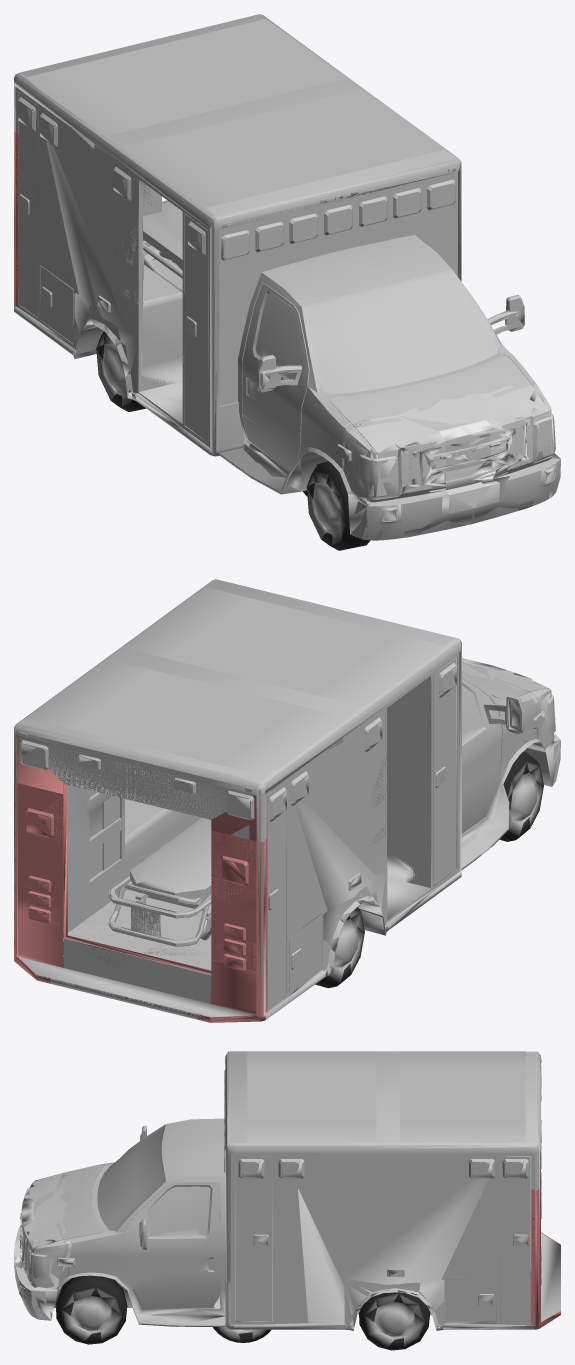
Rendered from van4.glb.
3 renders of one model, top to bottom at view 1: azimuth 30°, elevation 25°; view 2: azimuth 150°, elevation 25°; view 3: azimuth 270°, elevation 25°, orthographic. The views are drawn at different scales.
Parts seen in each view (by area): view 1: body0, body2, body1; view 2: body0, body2, body1; view 3: body0, body2, body1, wheel0.
Part boxes in pixels (x1,y1,x2,y2): body0: [14, 19, 560, 540]; body2: [14, 14, 560, 550]; body1: [14, 130, 556, 538]; body0: [14, 579, 560, 1022]; body2: [14, 579, 560, 1022]; body1: [15, 672, 555, 1015]; body0: [14, 1051, 541, 1330]; body2: [14, 1051, 560, 1350]; body1: [16, 1062, 541, 1329]; wheel0: [213, 1327, 271, 1342].
Size of the model in its own units: 2.62 by 2.96 by 6.
